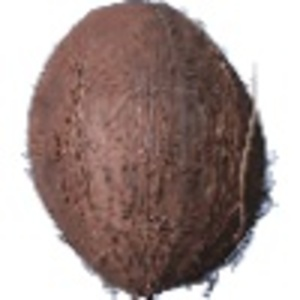coco: (26, 1, 278, 300)
